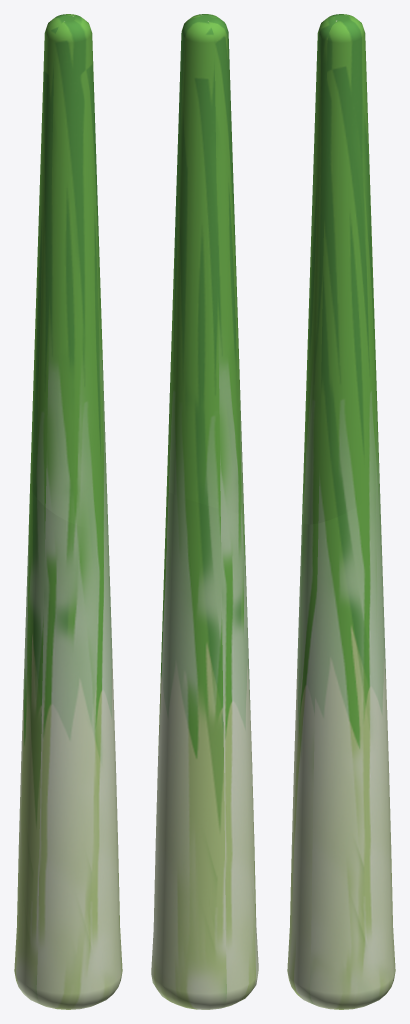
File: lemongrass.fbx
3 views of the same model, side by side, from view 1: azimuth 90°, elevation 25°; view 2: azimuth 150°, elevation 25°; view 3: azimuth 270°, elevation 25° (orthographic).
Visible parts, largest first — view 1: lemongrass; view 2: lemongrass; view 3: lemongrass.
Boxes of the visible parts, box(x1,y1,x2,y2) form: lemongrass: box(14, 14, 122, 1009); lemongrass: box(151, 14, 258, 1009); lemongrass: box(287, 14, 395, 1009).
Size of the model in its own units: 949 by 9459 by 949.
1 material, 1 textured.
